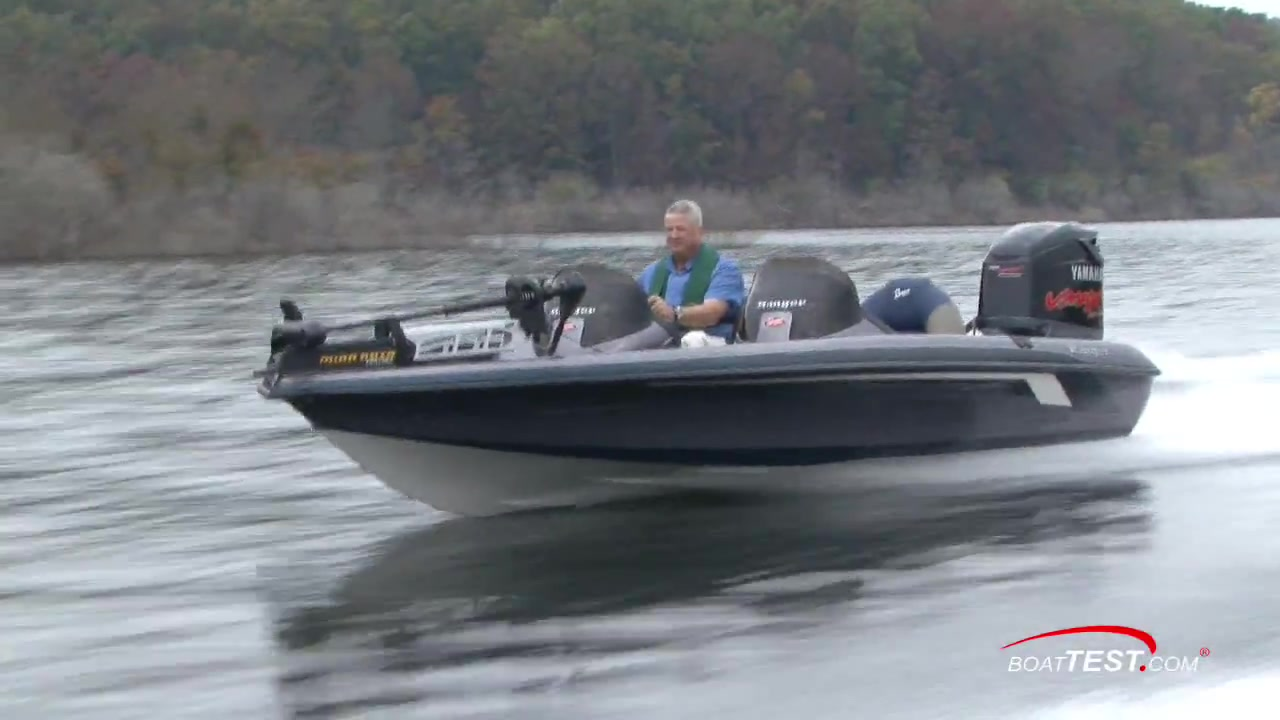boat: (257, 210, 1159, 524)
